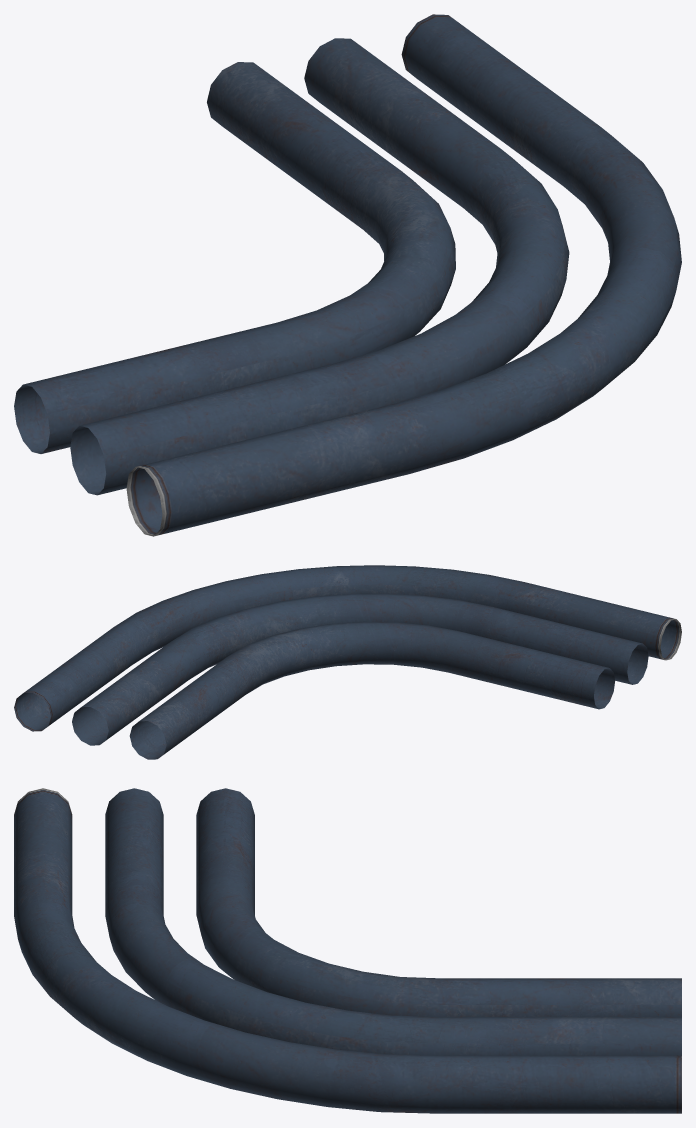
File: Pipe3_Courner2_L0.fbx
The picture shows the model from 3 angles, top to bottom: view 1: azimuth 30°, elevation 25°; view 2: azimuth 150°, elevation 25°; view 3: azimuth 270°, elevation 25°; orthographic projection. The views are drawn at different scales.
Visible parts, largest first — view 1: PIpe3_Courner2_L0; view 2: PIpe3_Courner2_L0; view 3: PIpe3_Courner2_L0.
Part boxes in pixels (left/top/right/bottom): PIpe3_Courner2_L0: left=14, top=14, right=681, bottom=536; PIpe3_Courner2_L0: left=14, top=565, right=681, bottom=759; PIpe3_Courner2_L0: left=14, top=788, right=681, bottom=1113.
Size of the model in its own units: 122 by 10.66 by 122.
